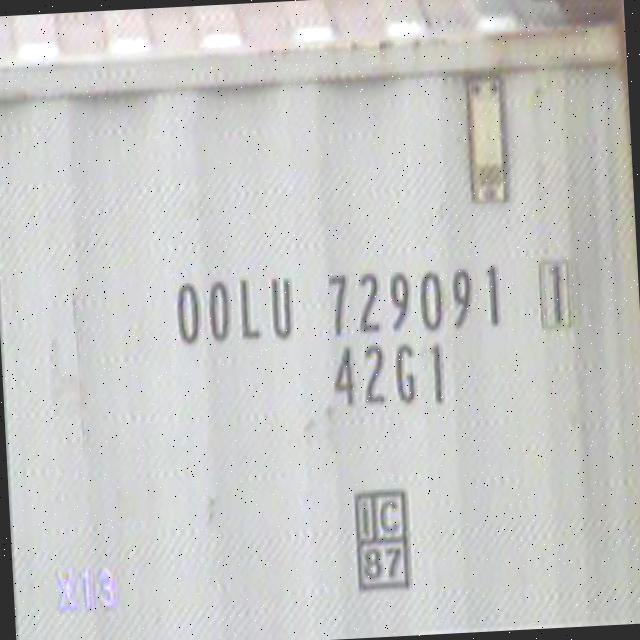le-tle-t-tletters: (170, 256, 580, 354)
